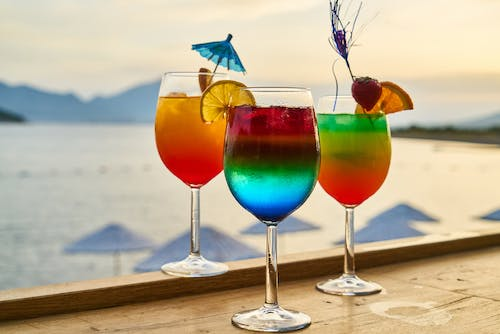alcohol: (222, 86, 322, 334), (153, 71, 231, 279), (316, 94, 393, 297)
